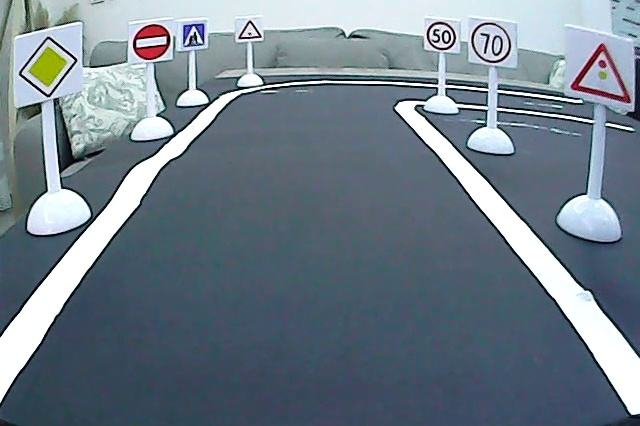do not enter: (130, 21, 172, 64)
green light: (236, 18, 263, 42)
red light: (568, 40, 634, 107)
school crossing: (180, 22, 207, 49)
speed limit 50: (425, 20, 458, 53)
speed limit 70: (469, 19, 514, 66)
